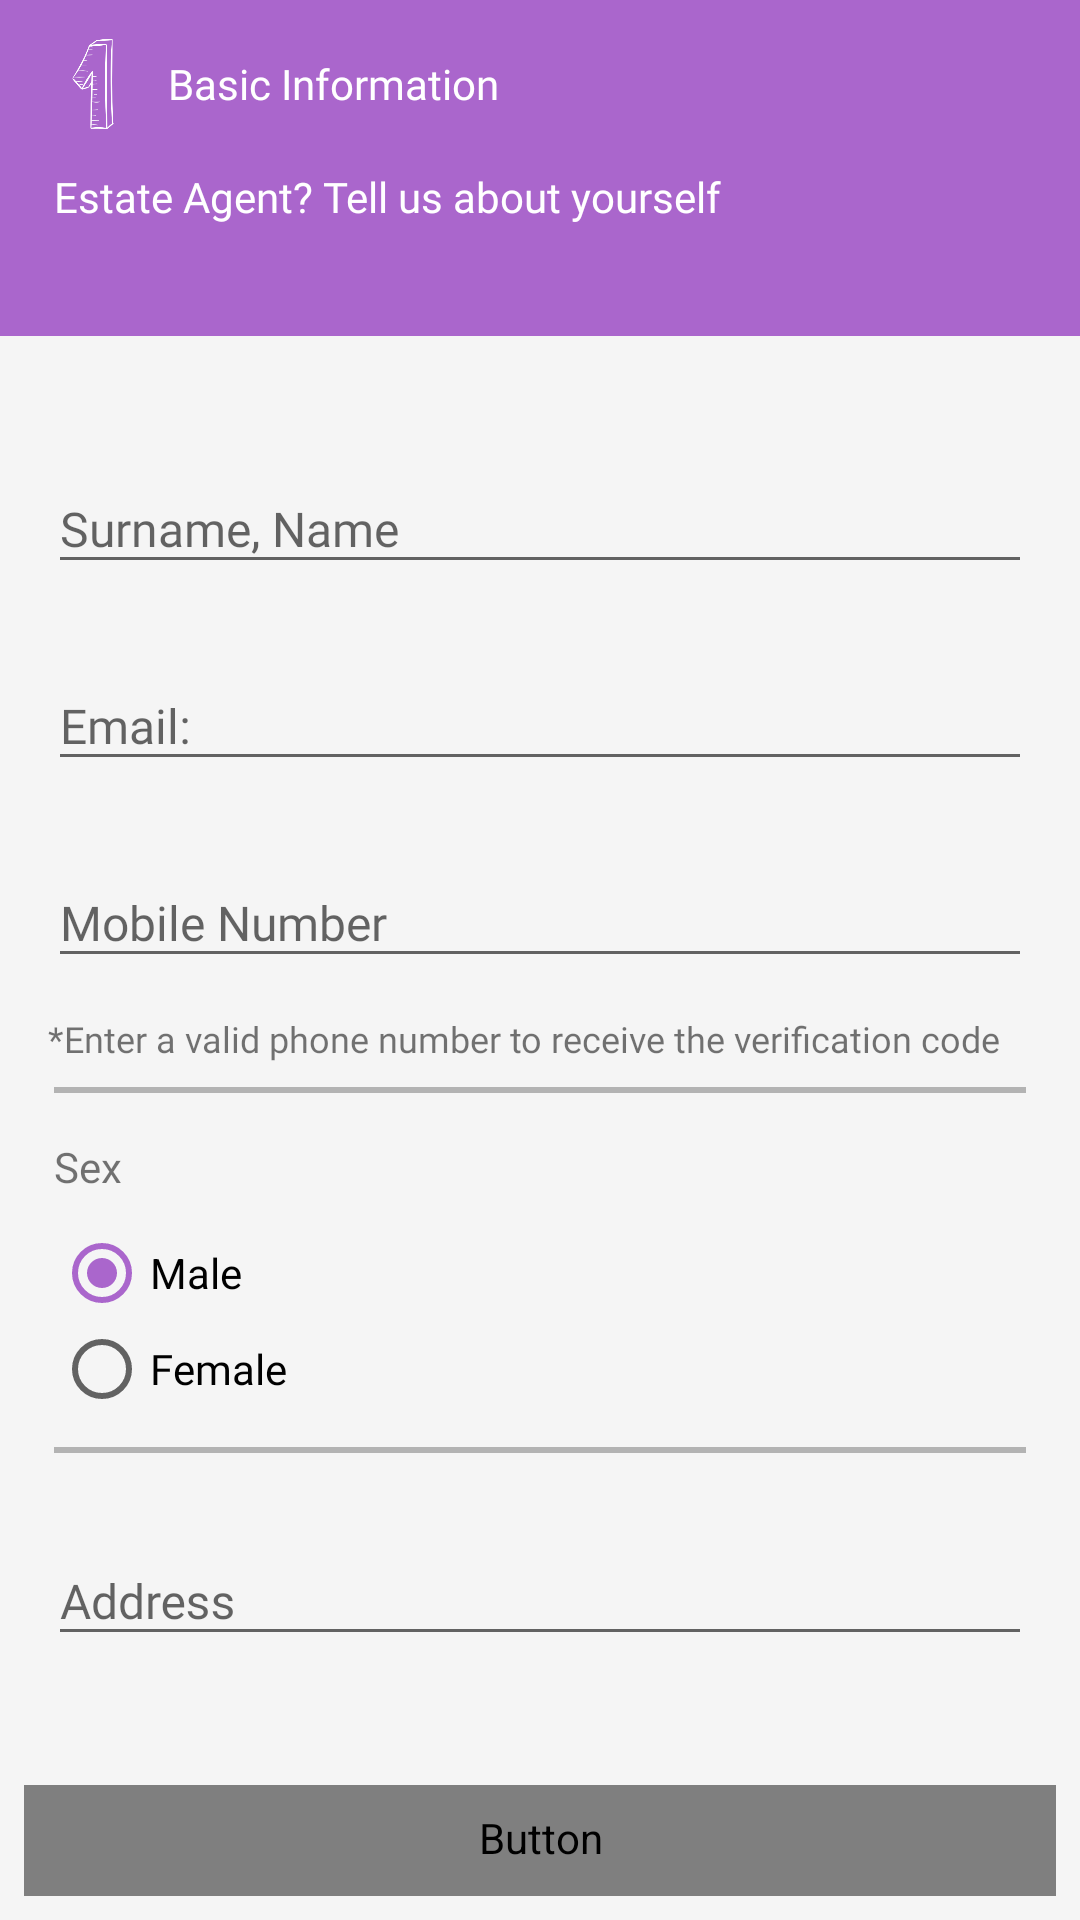

Icons on this 1080w x 1920h Android screen, each with its box as (x1, y1, x2, y2):
Number One: (72, 39, 114, 129)
